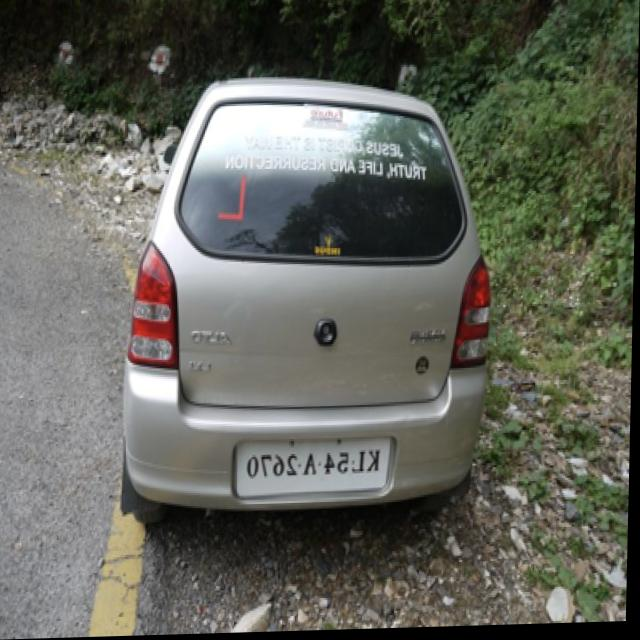licence: (241, 436, 395, 493)
